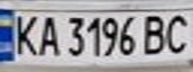1: (81, 14, 103, 57)
3: (63, 14, 84, 57)
6: (118, 14, 142, 57)
9: (100, 14, 121, 57)
A: (33, 12, 60, 57)
B: (139, 12, 172, 56)
C: (160, 11, 193, 55)
K: (9, 11, 42, 57)
